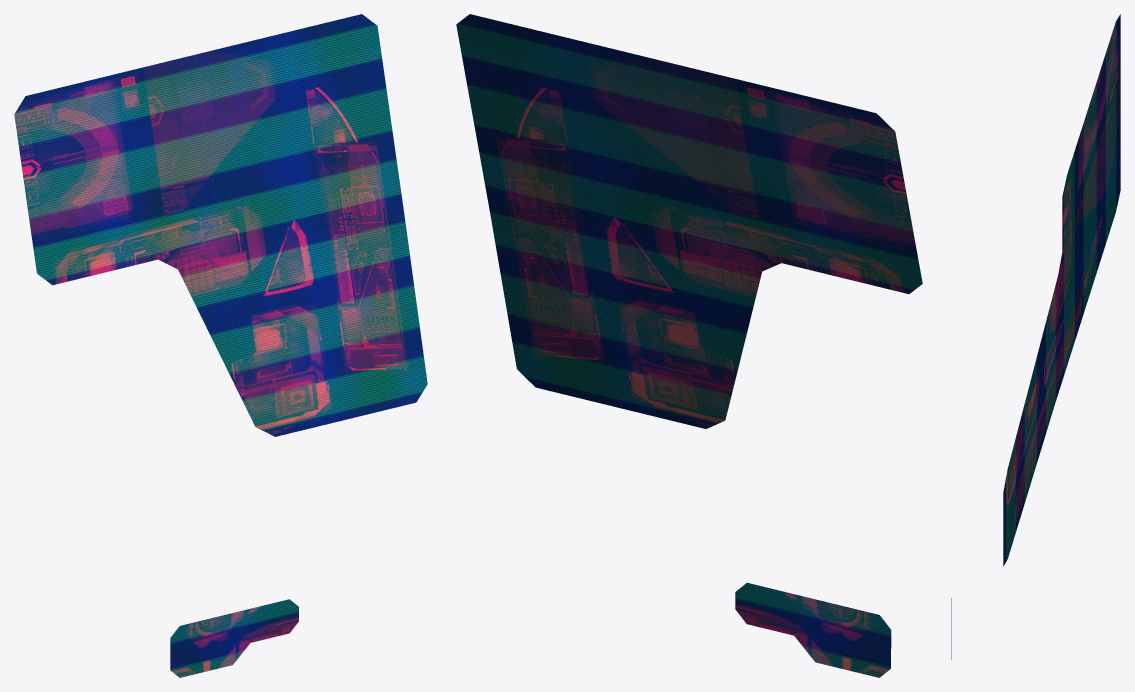
File: Shuttle_Int_Holo_2.FBX
3 views of the same model, side by side, from view 1: azimuth 30°, elevation 25°; view 2: azimuth 150°, elevation 25°; view 3: azimuth 270°, elevation 25° (orthographic). The views are drawn at different scales.
Visible parts, largest first — view 1: Shuttle_Int_Holo_2; view 2: Shuttle_Int_Holo_2; view 3: Shuttle_Int_Holo_2.
Boxes of the visible parts, x1=… form: Shuttle_Int_Holo_2: x1=14, y1=14, x2=427, y2=677; Shuttle_Int_Holo_2: x1=456, y1=14, x2=922, y2=677; Shuttle_Int_Holo_2: x1=951, y1=14, x2=1120, y2=659.
Size of the model in its own units: 0.6153 by 0.8791 by 0.23.
